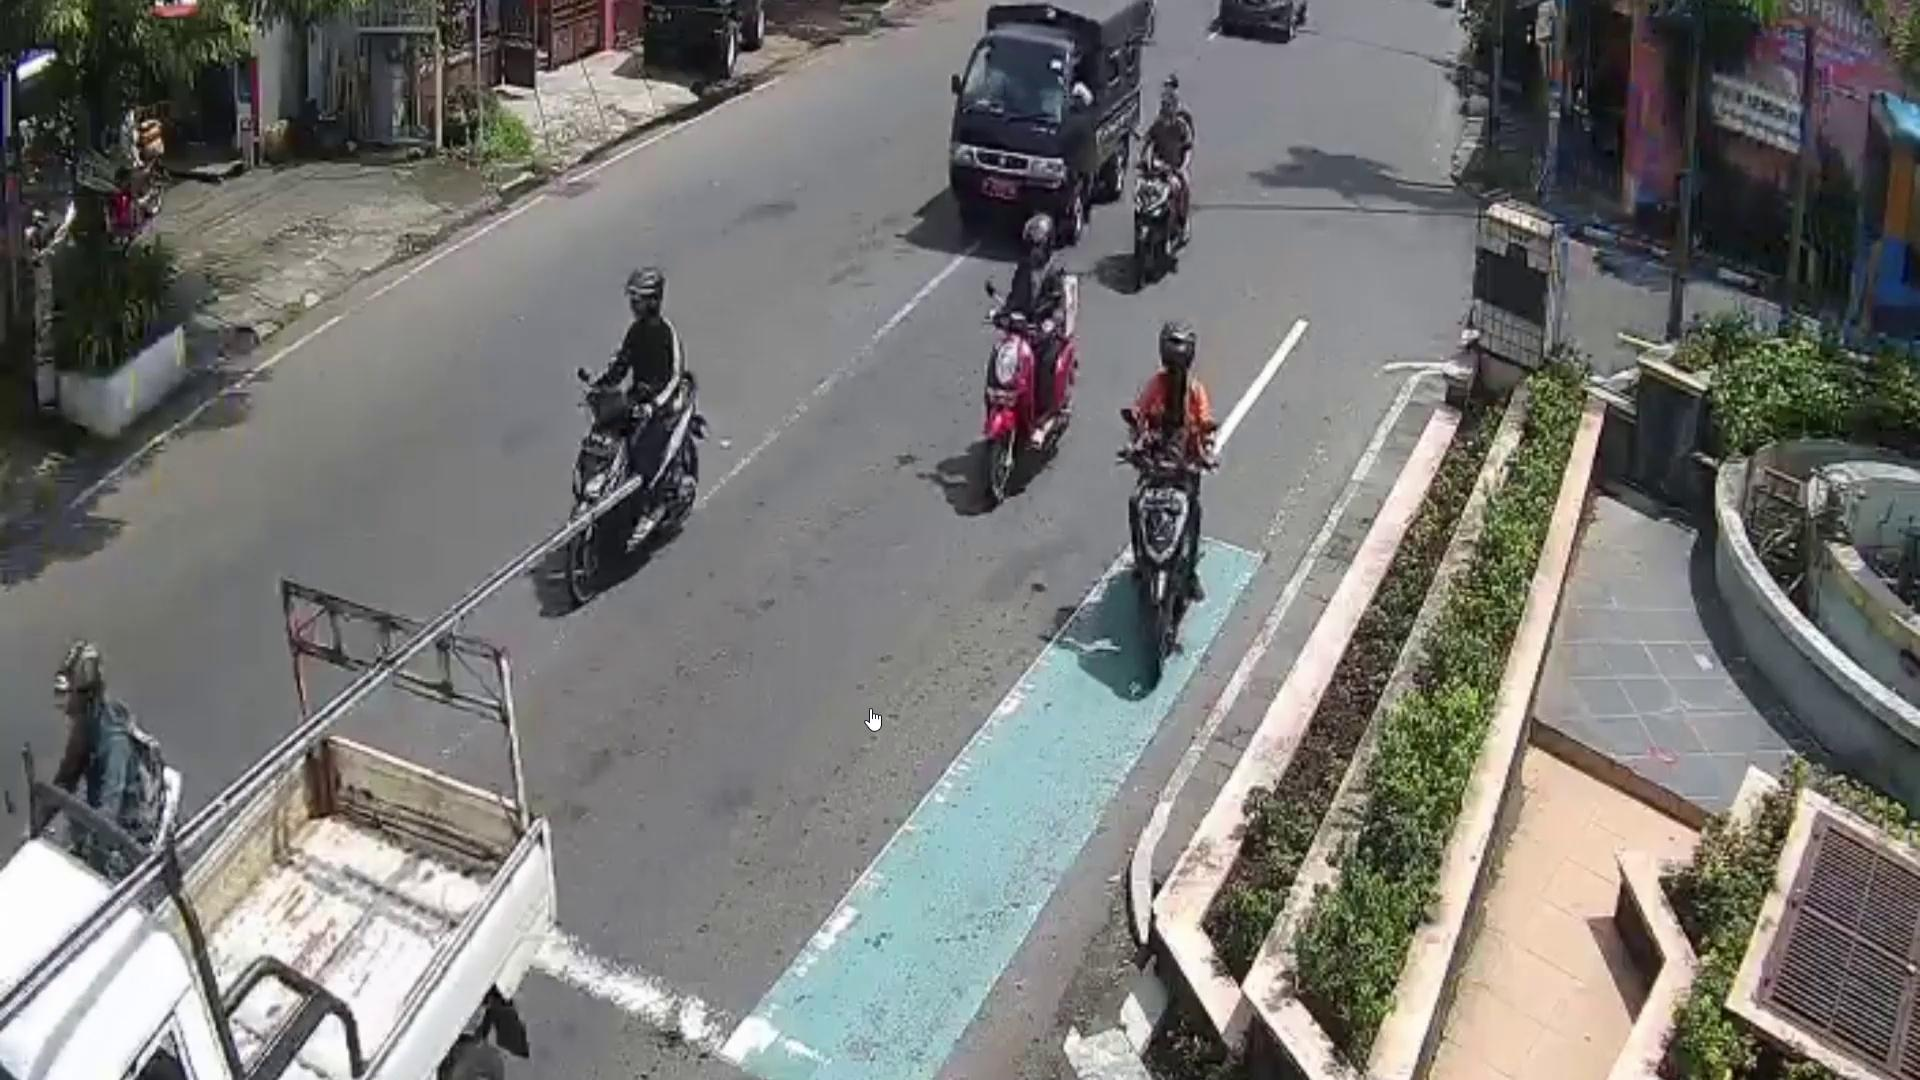car: (0, 580, 560, 1080), (944, 0, 1147, 241)
motorbike: (566, 360, 705, 600), (978, 311, 1077, 495), (1124, 444, 1200, 678), (1117, 156, 1200, 280)
